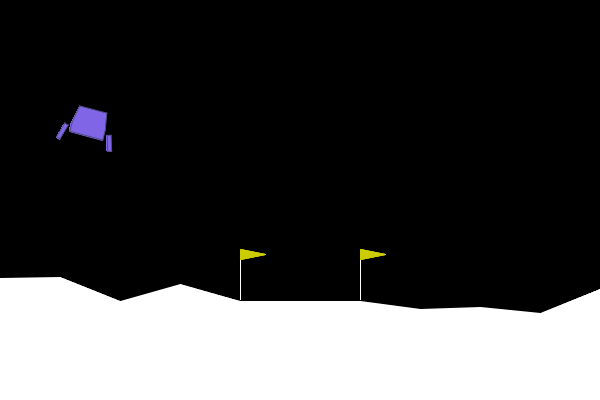lander: (54, 100, 122, 154)
